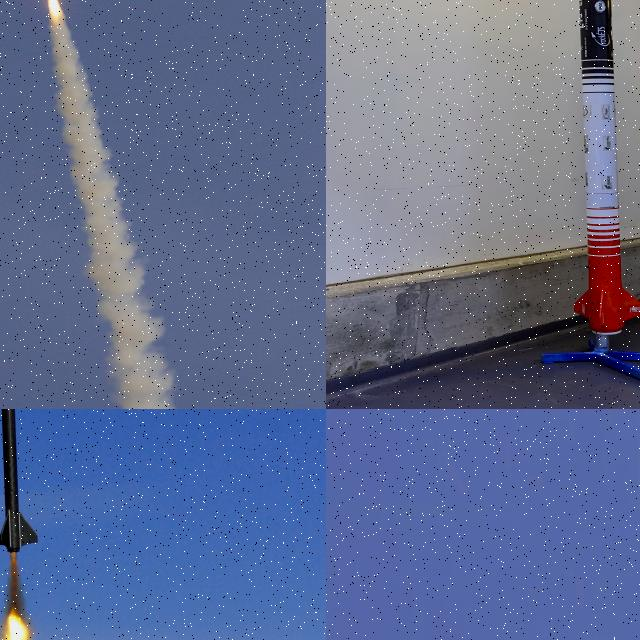Rocket: (574, 0, 640, 335), (0, 409, 40, 553)
